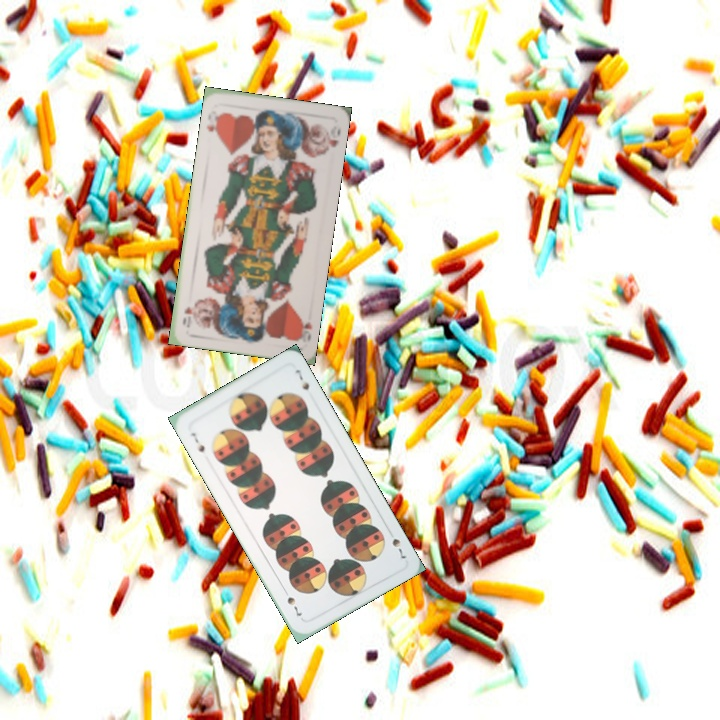HO: (202, 108, 224, 142), (293, 314, 314, 344)
S7: (388, 534, 409, 561), (186, 428, 207, 455)
